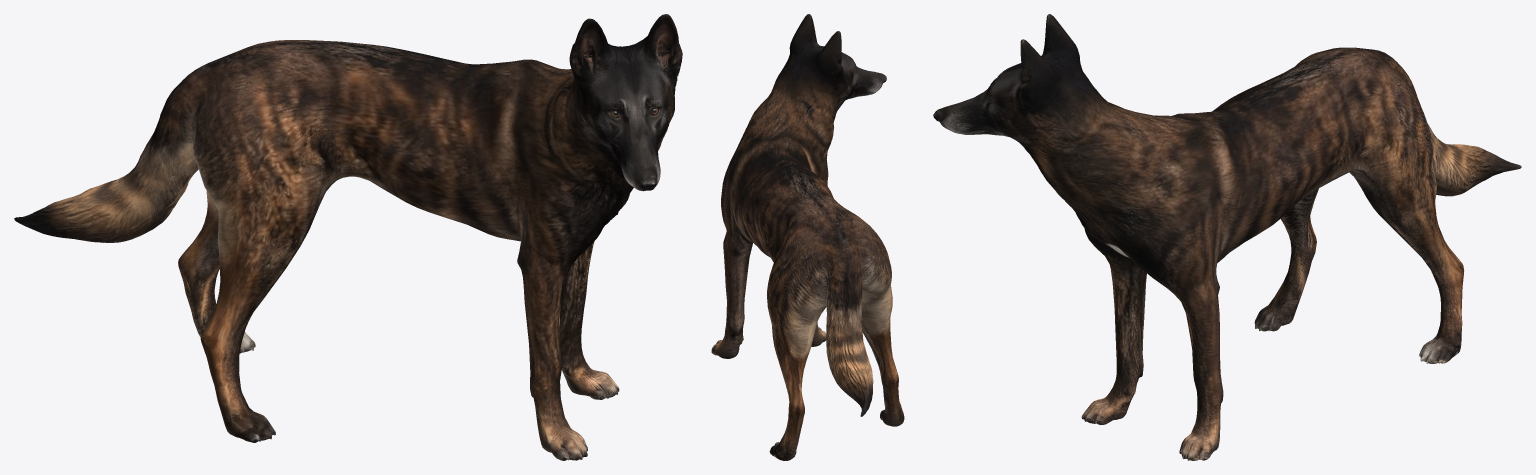
Rendered from duco.glb.
3 views of the same model, side by side, from view 1: azimuth 30°, elevation 25°; view 2: azimuth 150°, elevation 25°; view 3: azimuth 270°, elevation 25° (orthographic). The views are drawn at different scales.
Bounding box in the file's own units: 1.35 × 1.43 × 1.9.
1 material, 1 textured.
